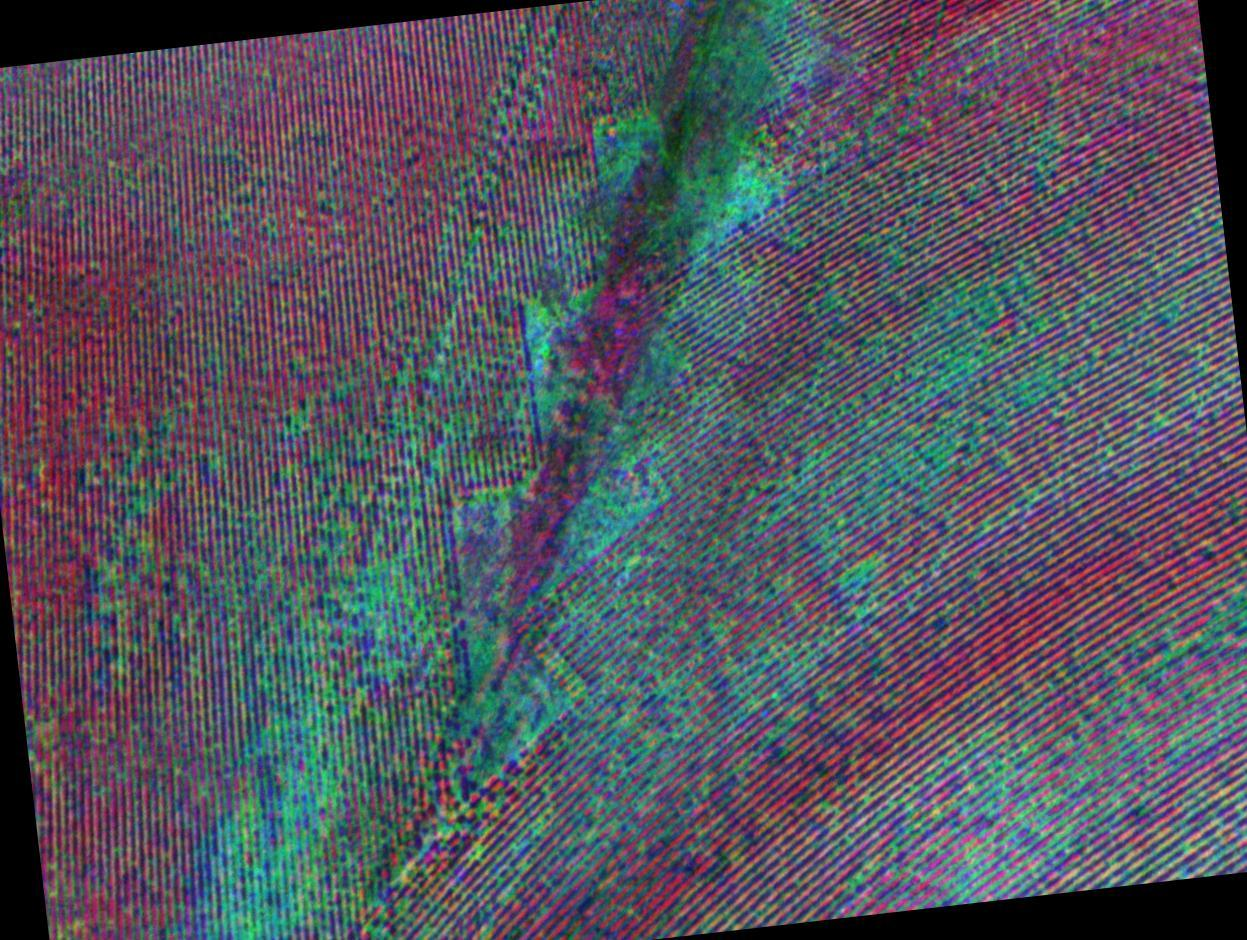dc: (246, 605, 348, 732), (928, 318, 1026, 418), (218, 828, 304, 934), (588, 490, 669, 577), (718, 150, 804, 230)
